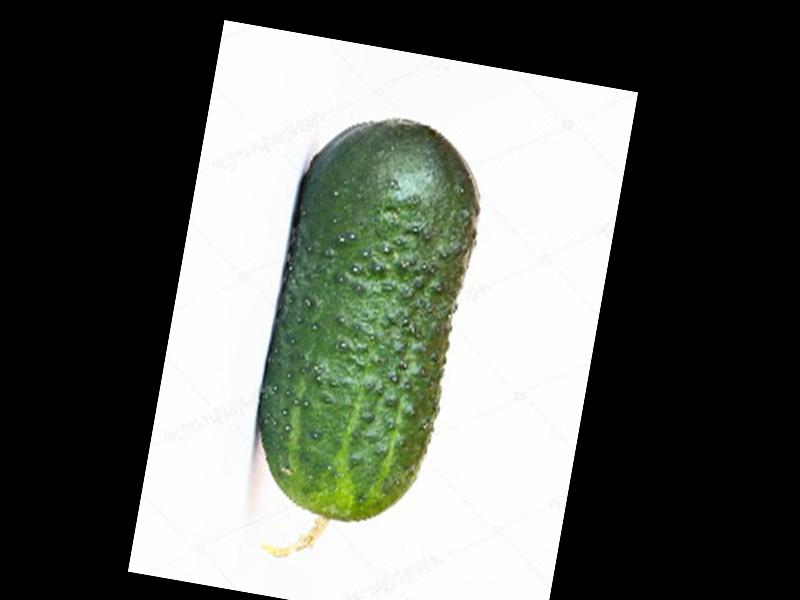Cucumber: (236, 107, 490, 583)
